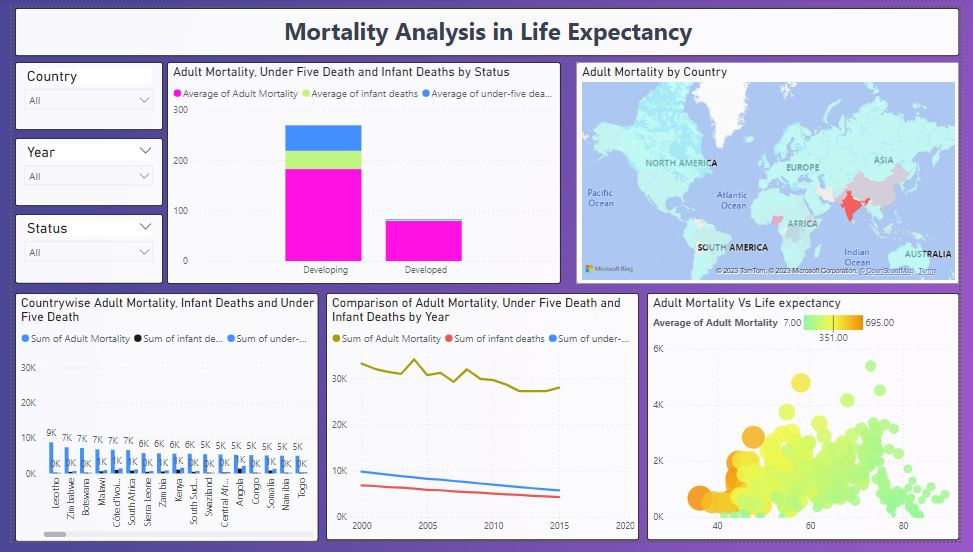

The dashboard page shown, as its layout file describes it:
{"tool":"powerbi","page":{"name":"Mortality Analysis","canvas":[1280,720],"ordinal":1},"visuals":[{"type":"textbox","box":[4.3,0,1275.8,64.8],"z":0},{"type":"lineChart","title":"Comparison of Adult Mortality, Under Five Death and Infant Deaths by Year","fields":{"Category":["Life Expectancy Data.Year"],"Y":["Sum(Life Expectancy Data.Adult Mortality)","Sum(Life Expectancy Data.infant deaths)","Sum(Life Expectancy Data.under-five deaths )"]},"box":[424.8,384.5,423.4,334.1],"z":1000},{"type":"clusteredColumnChart","title":"Countrywise Adult Mortality, Infant Deaths and Under Five Death","fields":{"Category":["Life Expectancy Data.Country"],"Y":["Sum(Life Expectancy Data.Adult Mortality)","Sum(Life Expectancy Data.infant deaths)","Sum(Life Expectancy Data.under-five deaths )"]},"box":[4.3,384.5,410.4,335.5],"z":2000},{"type":"slicer","fields":{"Values":["Life Expectancy Data.Country"]},"box":[4.3,73.4,200.2,92.2],"z":3000},{"type":"slicer","fields":{"Values":["Life Expectancy Data.Year"]},"box":[4.3,175.7,200.2,92.2],"z":4000},{"type":"slicer","fields":{"Values":["Life Expectancy Data.Status"]},"box":[4.3,277.9,200.2,93.6],"z":5000},{"type":"filledMap","title":" Adult Mortality by Country","fields":{"Category":["Life Expectancy Data.Country"]},"box":[761.8,73.4,518.4,299.5],"z":6000},{"type":"columnChart","title":" Adult Mortality, Under Five Death and Infant Deaths by Status","fields":{"Category":["Life Expectancy Data.Status"],"Y":["Avg(Life Expectancy Data.Adult Mortality)","Avg(Life Expectancy Data.infant deaths)","Avg(Life Expectancy Data.under-five deaths )"]},"box":[209.3,73.3,532,300],"z":7000},{"type":"scatterChart","title":" Adult Mortality Vs Life expectancy ","fields":{"X":["Life Expectancy Data.Life expectancy "],"Y":["Sum(Life Expectancy Data.Adult Mortality)"],"Size":["Avg(Life Expectancy Data.Adult Mortality)"]},"box":[858.2,384.5,421.9,334.1],"z":8000}]}

Visuals, with their boxes in screenshot pixels (x1, y1, x2, y2), scaled from the page's 1280x720 canvas onto the 973x552 screenshot:
textbox: bbox=(3, 0, 972, 50)
"Comparison of Adult Mortality, Under Five Death and Infant Deaths by Year" lineChart: bbox=(323, 295, 645, 551)
"Countrywise Adult Mortality, Infant Deaths and Under Five Death" clusteredColumnChart: bbox=(3, 295, 315, 551)
slicer - Life Expectancy Data.Country: bbox=(3, 56, 155, 127)
slicer - Life Expectancy Data.Year: bbox=(3, 135, 155, 205)
slicer - Life Expectancy Data.Status: bbox=(3, 213, 155, 285)
" Adult Mortality by Country" filledMap: bbox=(579, 56, 972, 286)
" Adult Mortality, Under Five Death and Infant Deaths by Status" columnChart: bbox=(159, 56, 564, 286)
" Adult Mortality Vs Life expectancy " scatterChart: bbox=(652, 295, 972, 551)
